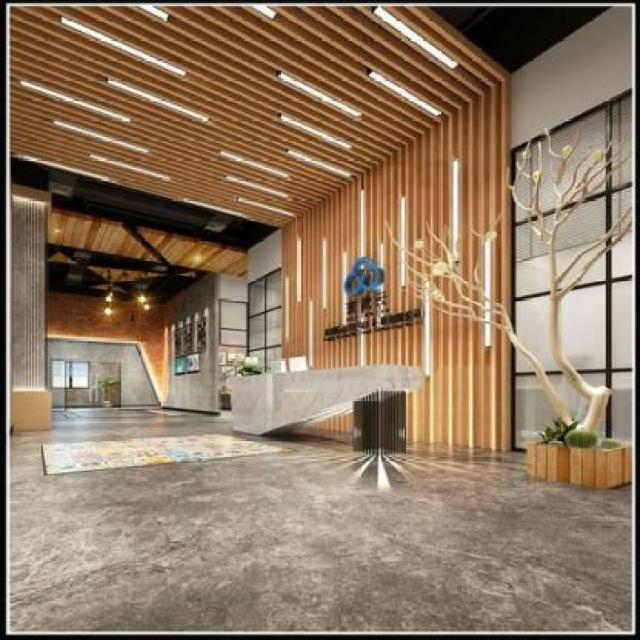frontdesk: (220, 363, 433, 452)
